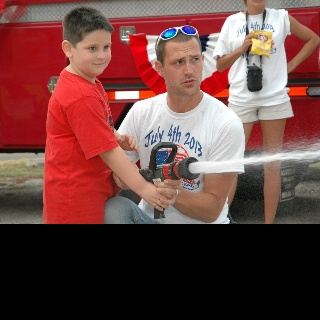without_mask: (162, 38, 203, 96), (72, 27, 111, 76), (247, 0, 267, 7)
